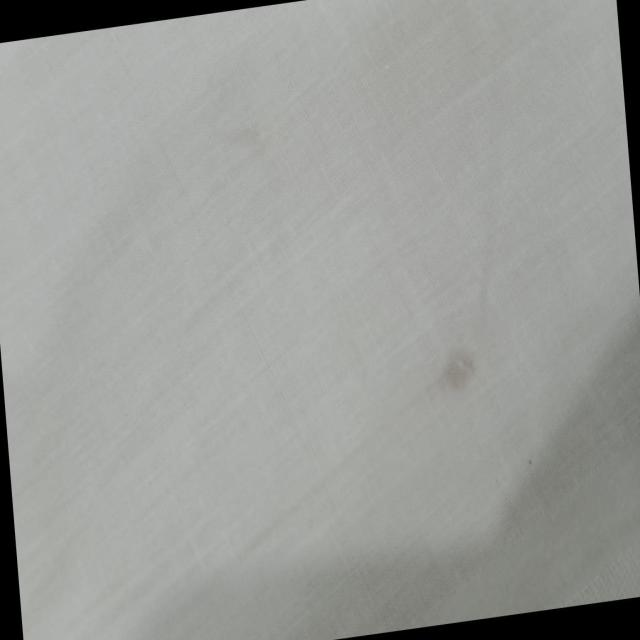stain: (424, 330, 490, 414)
